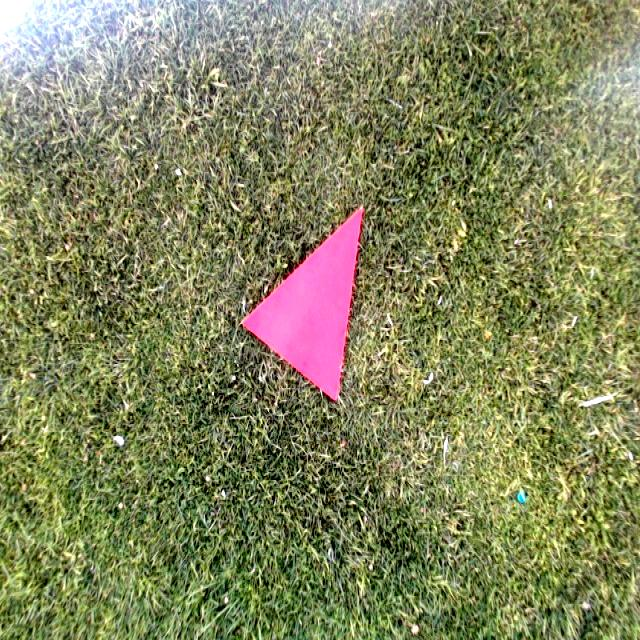red_triangle: (242, 207, 362, 401)
